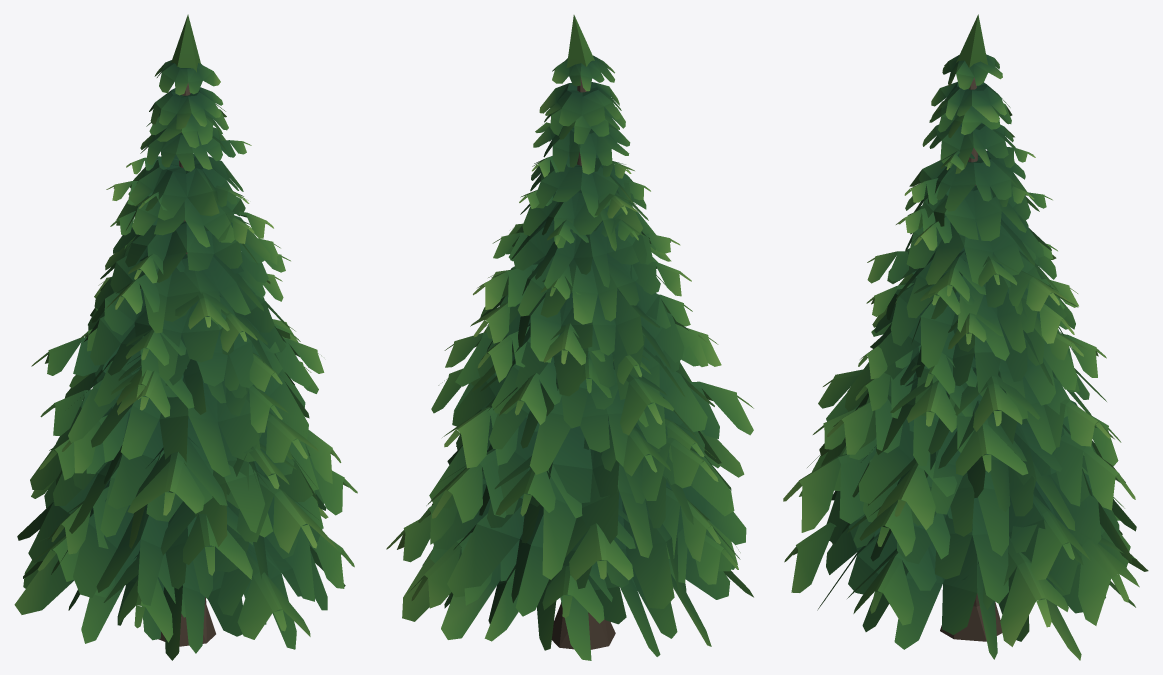
File: spruce_L_normal_std_s25.glb
3 views of the same model, side by side, from view 1: azimuth 30°, elevation 25°; view 2: azimuth 150°, elevation 25°; view 3: azimuth 270°, elevation 25° (orthographic).
Parts seen in each view (by area): view 1: Tree; view 2: Tree; view 3: Tree.
Part boxes in pixels (<box>): Tree: <box>14,14,357,660</box>; Tree: <box>386,15,753,660</box>; Tree: <box>783,14,1148,660</box>.
Size of what is drawn, in the model's own units: 4.21 by 7.89 by 4.24.
